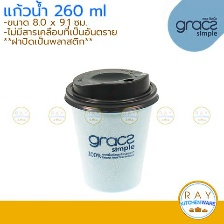paper_cup: (59, 61, 162, 195)
